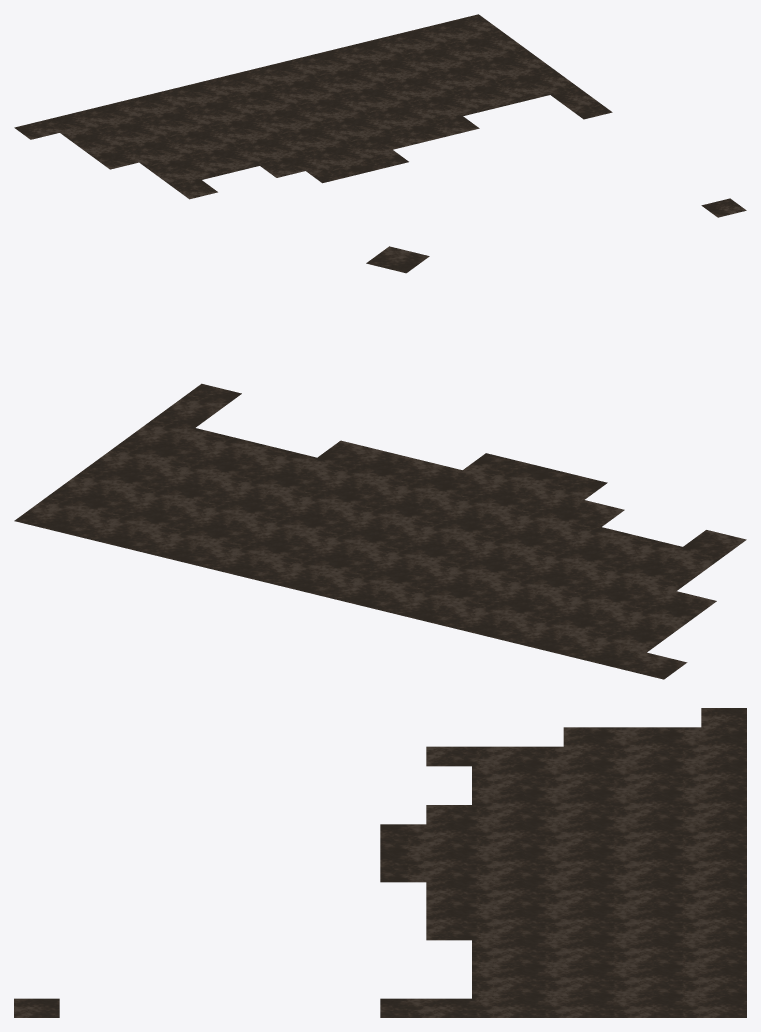
The model's file is floor_-1_-14.glb.
3 renders of one model, top to bottom at view 1: azimuth 30°, elevation 25°; view 2: azimuth 150°, elevation 25°; view 3: azimuth 270°, elevation 25°, orthographic. The views are drawn at different scales.
Parts seen in each view (by area): view 1: floor_-1_-14; view 2: floor_-1_-14; view 3: floor_-1_-14.
Part boxes in pixels (x1,y1,x2,y2): floor_-1_-14: (14,14,746,217); floor_-1_-14: (14,246,746,679); floor_-1_-14: (14,708,746,1017).
Size of the model in its own units: 64 by 0 by 64.
1 material, 1 textured.
